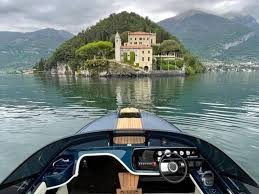boat: (1, 106, 259, 194)
